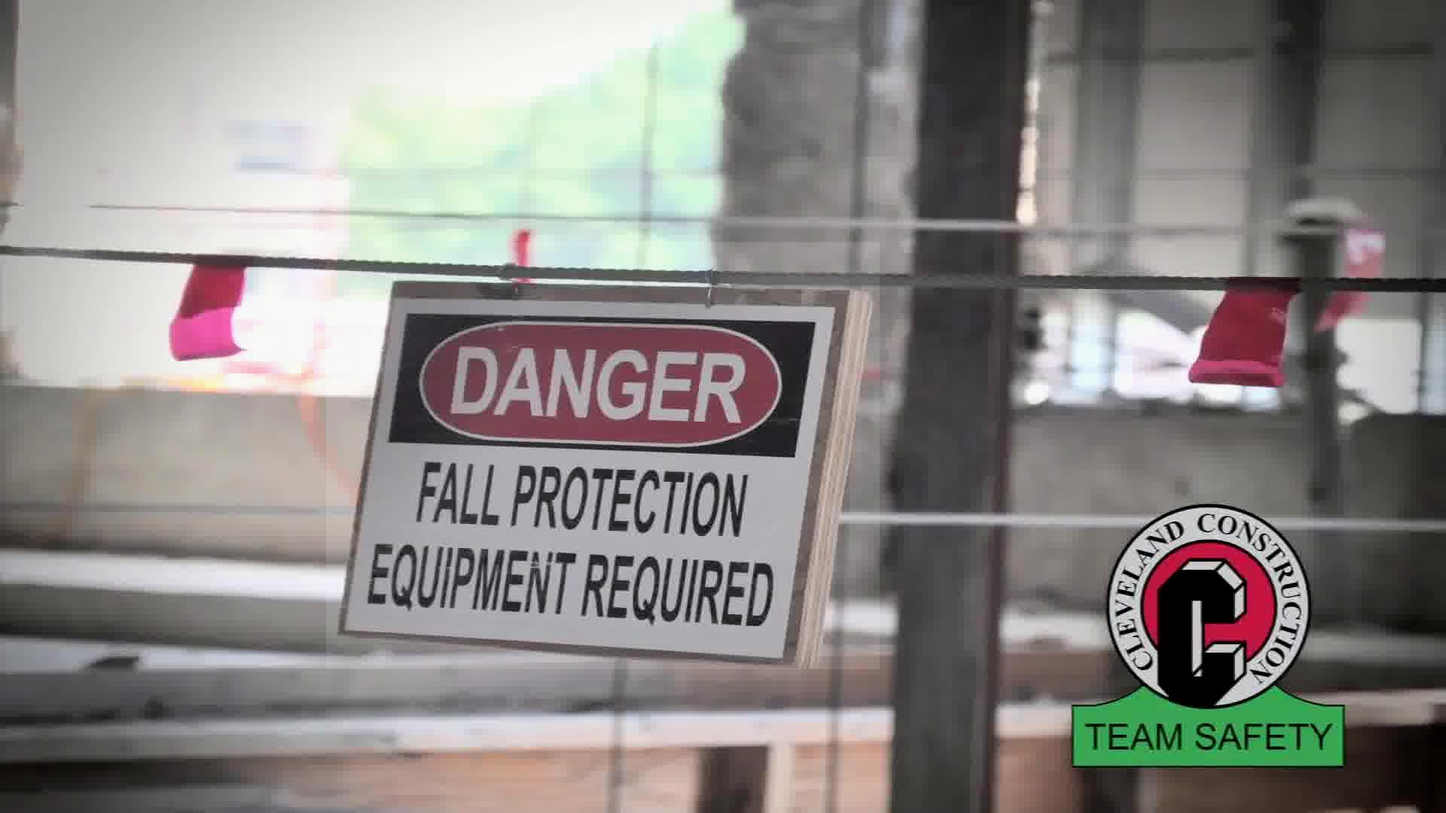safety_signage: (326, 242, 880, 669)
